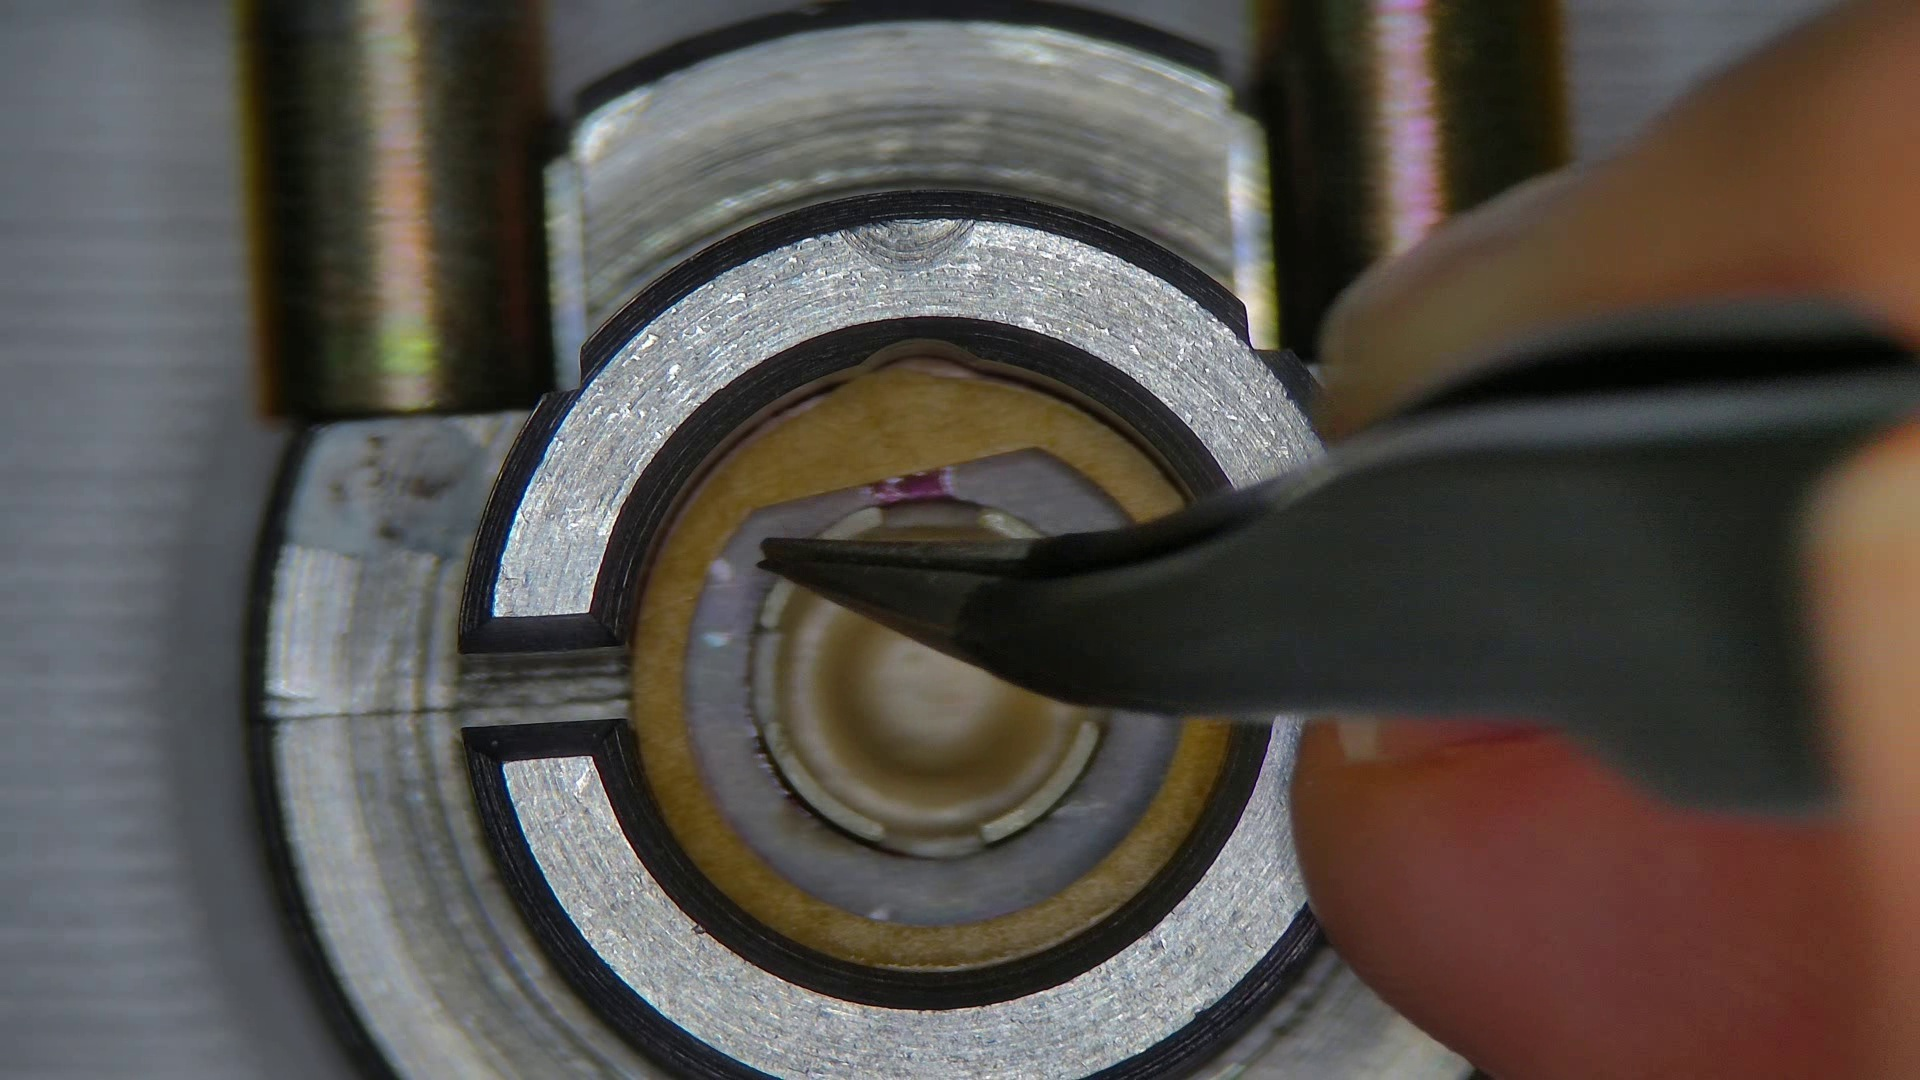YellowOring: (687, 457, 1171, 923)
redOring: (630, 363, 1220, 966)
